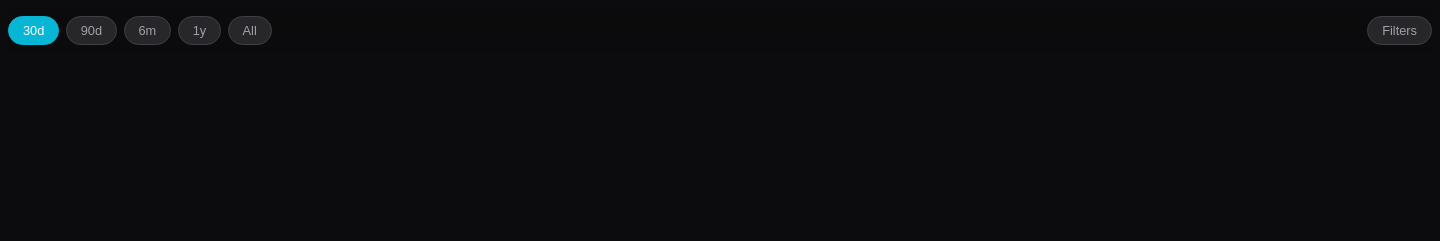
AnalyticsFilterBar › renders outcome toggles after expanding
Step 1. Click the button "Filters" → click(1400, 30), box [1367,16,1432,45]
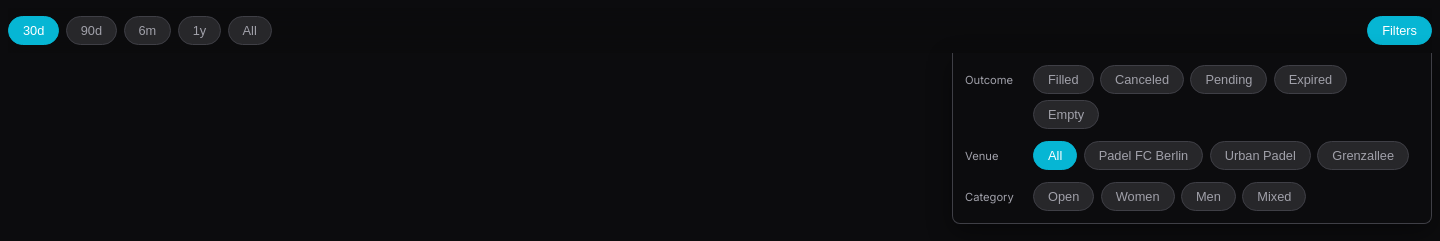
Expected: the button "Filled" is shown, [1033,65,1094,94]
Expected: the button "Canceled" is shown, [1100,65,1184,94]
Expected: the button "Pending" is shown, [1190,65,1268,94]
